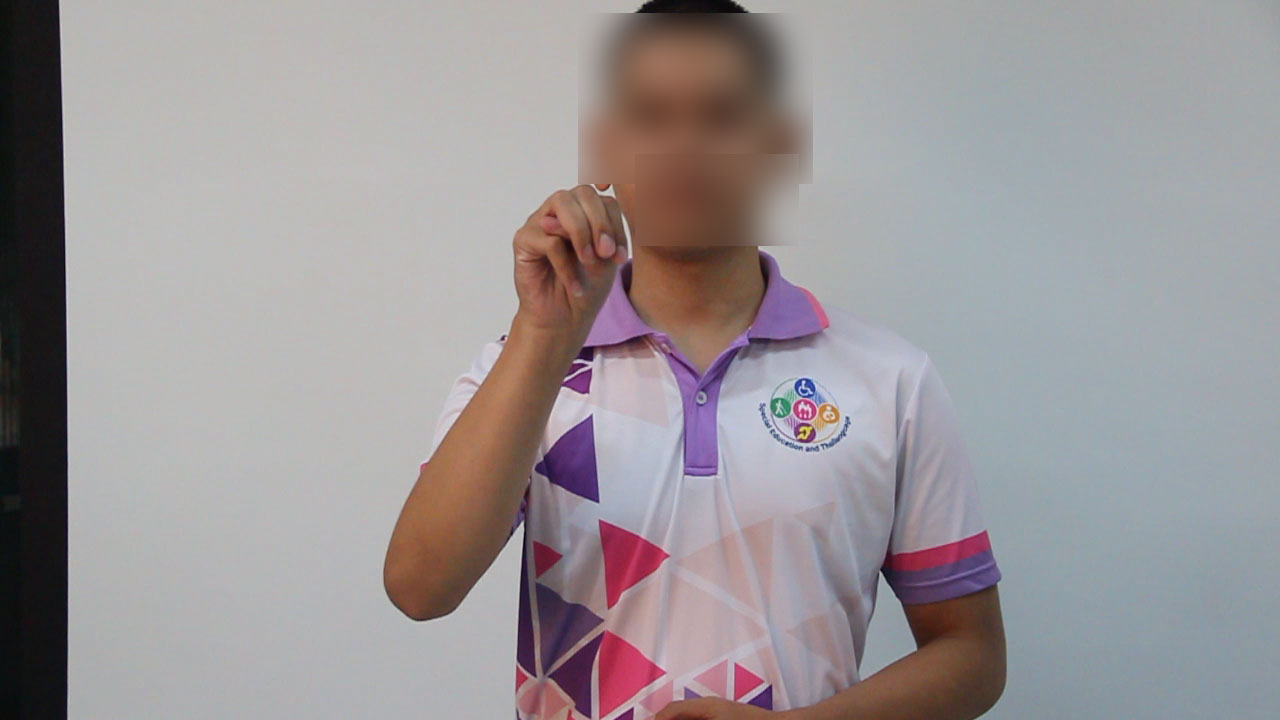mor: (507, 171, 633, 345)
